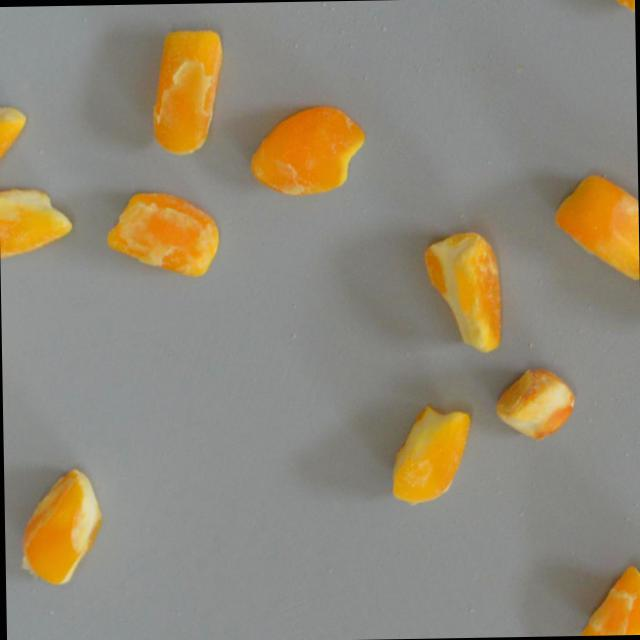pelicula: (242, 101, 368, 203), (143, 25, 231, 160), (546, 165, 639, 287), (417, 229, 505, 355), (99, 187, 219, 279), (384, 391, 472, 515), (15, 465, 102, 589), (492, 366, 579, 451), (0, 187, 71, 264), (573, 566, 640, 636), (0, 85, 10, 208), (603, 0, 635, 37)
